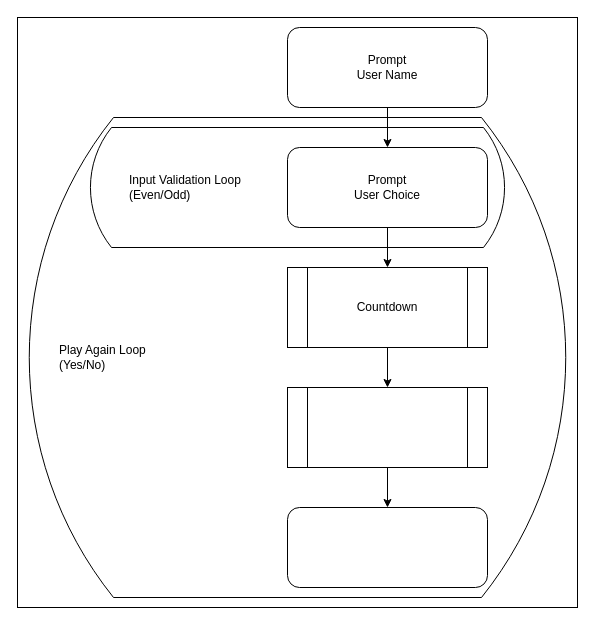
Some shapes in this 595 by 625 pixel diagram are drawn without their labels. The centre of each missing label's shape, as x and y in pixels:
Display Win/Loss Prompt Play Again: (x=387, y=547)
Sum Win Loss: (x=387, y=427)
